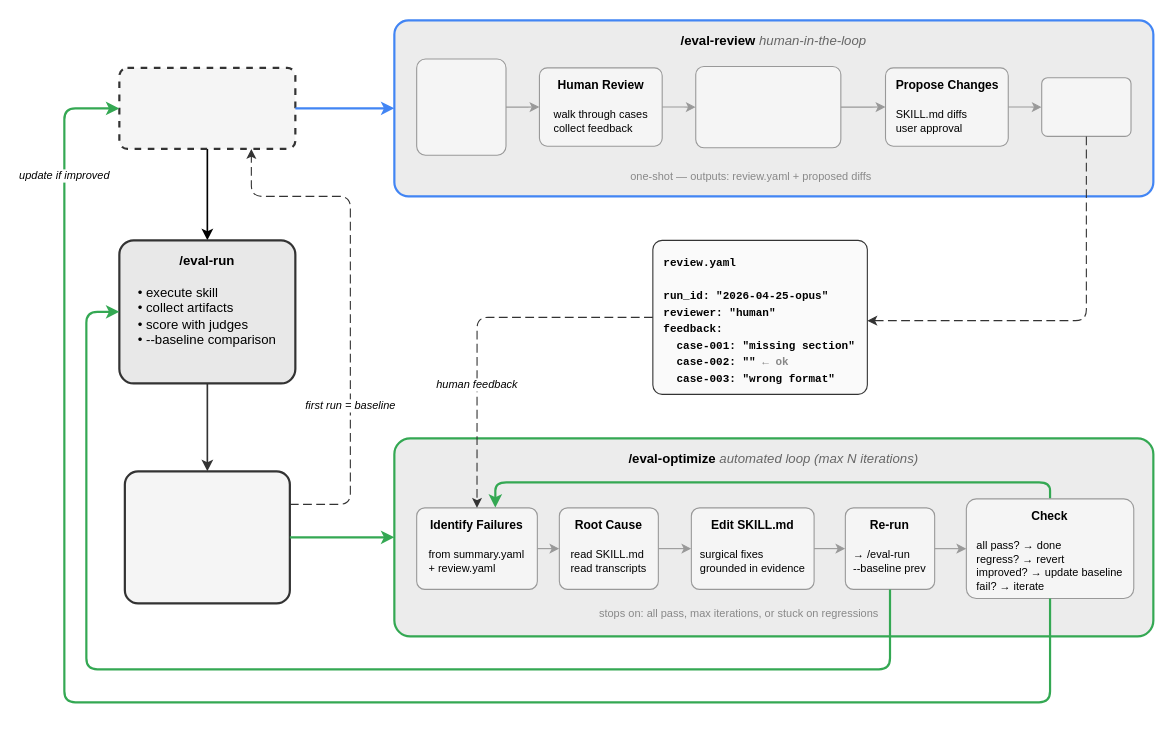
The diagram is 1173 pixels wide and 730 high, and some of its shapes have lost their labels. Here are the shapes that lost their labels. From the top down, the centre of each, then its label:
At point 207,107: "Baseline previous best run updated if improved".
At point 461,106: "Present pass rates failures pairwise".
At point 768,106: "Analyze Patterns judge-human alignment systematic issues".
At point 1086,106: "Save review.yaml".
At point 206,537: "Run Results • summary.yaml • per-case scores • judge rationale • transcripts".
